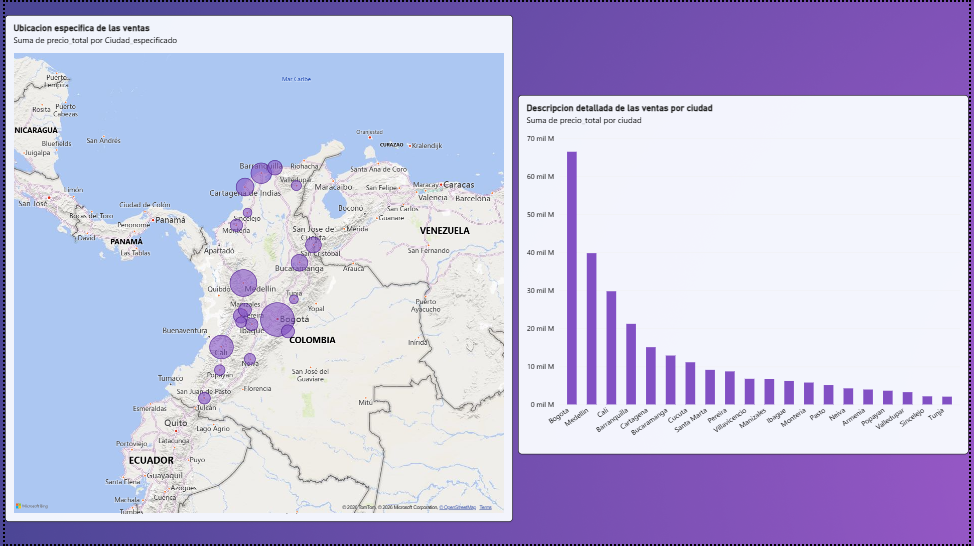

This screenshot's page, from the dashboard's own definition file:
{"tool":"powerbi","page":{"name":"Descricion detallada de las ubicaciones con ventas","canvas":[1920,1080],"ordinal":2},"visuals":[{"type":"map","title":"Ubicacion especifica de las ventas","fields":{"Category":["public ventas_colombia.Ciudad_especificado"],"Size":["Sum(public ventas_colombia.precio_total)"]},"box":[0,26.3,1012,1009.8],"z":0},{"type":"columnChart","title":"Descripcion detallada de las ventas por ciudad","fields":{"Category":["public ventas_colombia.ciudad"],"Y":["Sum(public ventas_colombia.precio_total)"]},"box":[1022.9,184.4,897.8,715.6],"z":1000}]}

Visuals, with their boxes in screenshot pixels (x1, y1, x2, y2), scaled from the page's 1920x1080 canvas onto the 974x546 screenshot:
"Ubicacion especifica de las ventas" map: <bbox>0, 13, 513, 524</bbox>
"Descripcion detallada de las ventas por ciudad" columnChart: <bbox>519, 93, 973, 455</bbox>
